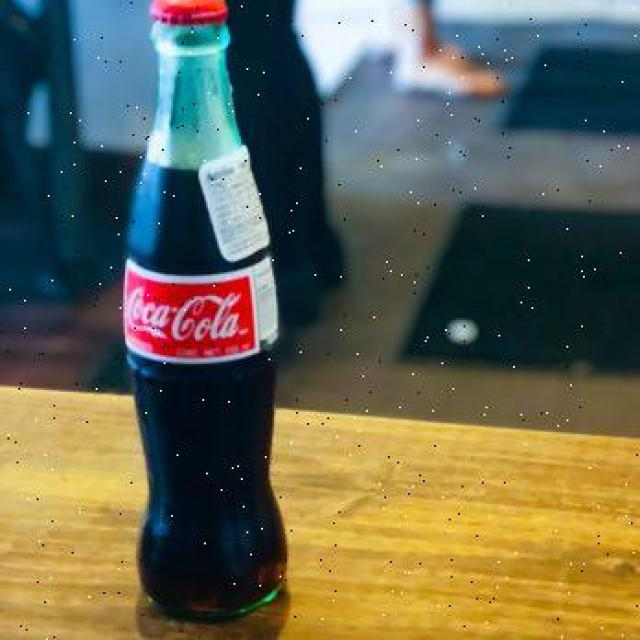coca-cola: (123, 0, 300, 620)
